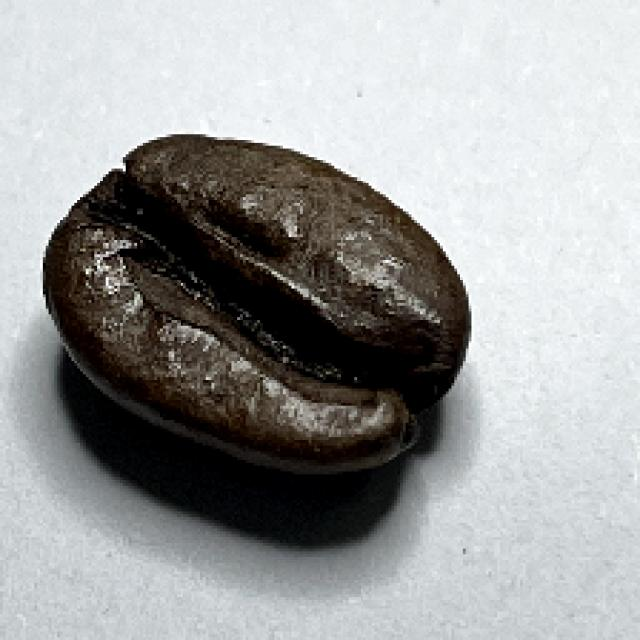bean: (39, 128, 476, 476)
